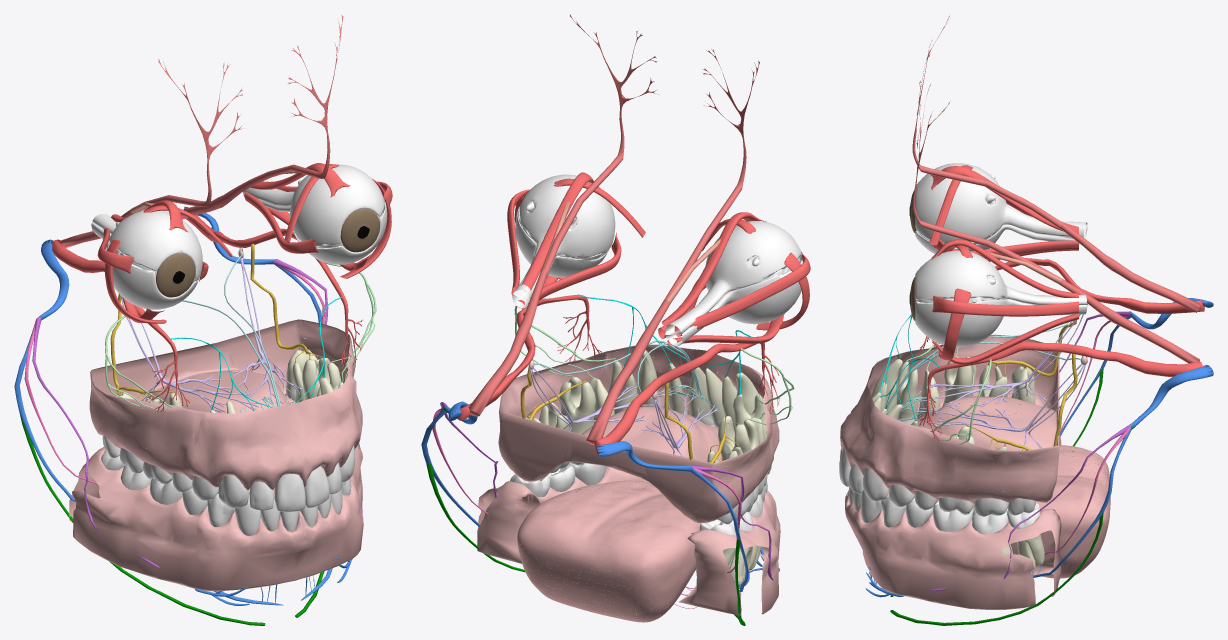
The model's file is Gingivitis.gltf.
The picture shows the model from 3 angles, left to right: view 1: azimuth 30°, elevation 25°; view 2: azimuth 150°, elevation 25°; view 3: azimuth 270°, elevation 25°; orthographic projection. The views are drawn at different scales.
Parts seen in each view (by area): view 1: Object_17, Object_19, Object_68, Object_67, Object_18, Object_11, Object_71, Object_12, Object_13, Object_27, Object_46, Object_26 (+24 smaller); view 2: Object_17, Object_24, Object_19, Object_21, Object_68, Object_67, Object_20, Object_27, Object_26, Object_8, Object_18, Object_66 (+30 smaller); view 3: Object_17, Object_19, Object_68, Object_67, Object_18, Object_24, Object_26, Object_30, Object_27, Object_70, Object_21, Object_52 (+28 smaller).
Part boxes in pixels (x1,y1,x2,y2): Object_17: (89, 319, 362, 489); Object_19: (69, 443, 363, 591); Object_68: (91, 210, 202, 309); Object_67: (92, 164, 384, 300); Object_18: (90, 320, 362, 489); Object_11: (234, 466, 342, 535); Object_71: (156, 208, 379, 297); Object_12: (143, 457, 351, 526); Object_13: (182, 445, 355, 514); Object_27: (181, 14, 343, 219); Object_46: (14, 239, 283, 605); Object_26: (60, 59, 244, 247); Object_17: (498, 344, 779, 522); Object_24: (517, 480, 700, 622); Object_19: (477, 466, 780, 615); Object_21: (517, 482, 686, 622); Object_68: (519, 218, 802, 346); Object_67: (513, 174, 781, 334); Object_20: (517, 491, 695, 620); Object_27: (468, 14, 658, 416); Object_26: (586, 49, 759, 445); Object_8: (559, 377, 759, 585); Object_18: (499, 345, 778, 522); Object_66: (519, 184, 787, 334); Object_17: (840, 334, 1059, 503); Object_19: (845, 434, 1061, 609); Object_68: (915, 163, 1087, 301); Object_67: (915, 182, 1087, 335); Object_18: (840, 336, 1058, 501); Object_24: (936, 445, 1110, 578); Object_26: (912, 16, 1199, 312); Object_30: (919, 341, 1203, 441); Object_27: (912, 84, 1199, 363); Object_70: (915, 276, 1087, 347); Object_21: (1072, 447, 1110, 575); Object_52: (932, 295, 1078, 364).
Size of the model in its own units: 10.54 by 18.5 by 11.47.
